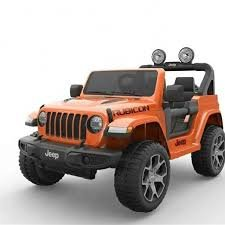mobil: (20, 48, 225, 204)
